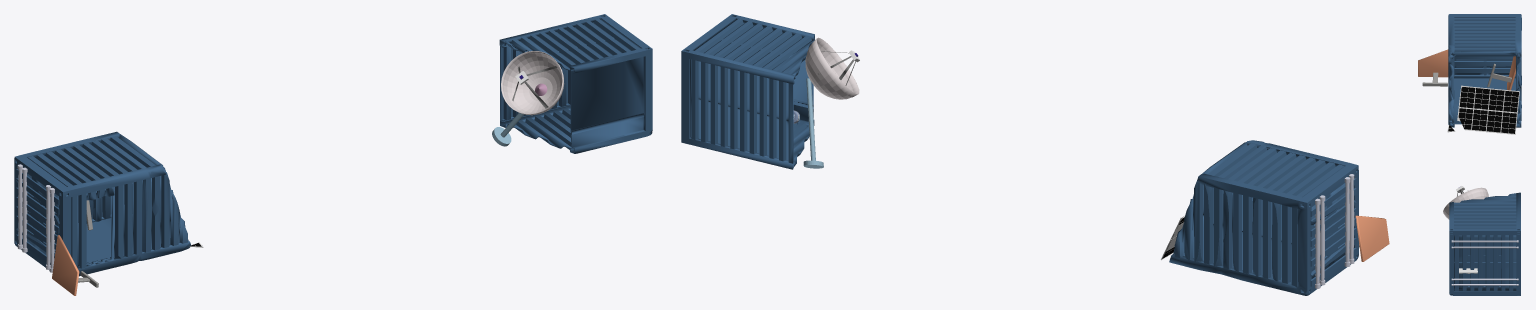
The model's file is KirikEv4.fbx.
3 renders of one model, left to right at view 1: azimuth 30°, elevation 25°; view 2: azimuth 150°, elevation 25°; view 3: azimuth 270°, elevation 25°, orthographic. The views are drawn at different scales.
Parts seen in each view (by area): view 1: Cylinder.001, Cube, anten, Plane.001, Cylinder.007; view 2: Cylinder.001, Cube, anten, Plane.001, Cylinder.007; view 3: Cube, Cylinder.001, Cube.020, Plane.001, anten, Plane.002, Cube.015.
Boxes of the visible parts, <box> form: Cylinder.001: <box>14,131,191,276</box>; Cube: <box>499,14,652,153</box>; anten: <box>501,51,564,115</box>; Plane.001: <box>52,235,98,295</box>; Cylinder.007: <box>492,113,523,146</box>; Cylinder.001: <box>1169,140,1358,295</box>; Cube: <box>681,14,814,169</box>; anten: <box>805,37,859,99</box>; Plane.001: <box>1355,215,1389,261</box>; Cylinder.007: <box>803,78,823,168</box>; Cube: <box>1449,192,1520,295</box>; Cylinder.001: <box>1448,14,1521,127</box>; Cube.020: <box>1457,85,1519,134</box>; Plane.001: <box>1418,49,1448,86</box>; anten: <box>1443,187,1488,219</box>; Plane.002: <box>1487,56,1515,90</box>; Cube.015: <box>1459,268,1477,273</box>.
Size of the model in its own units: 4769 by 783 by 951.
